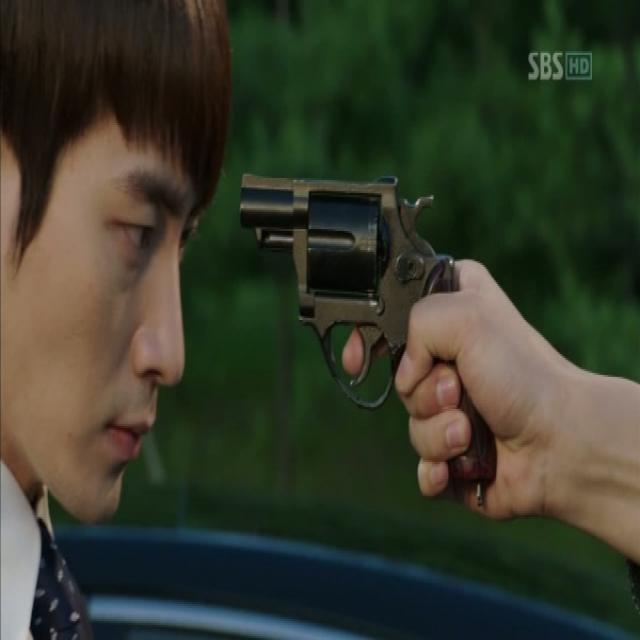weapons: (233, 148, 513, 510)
